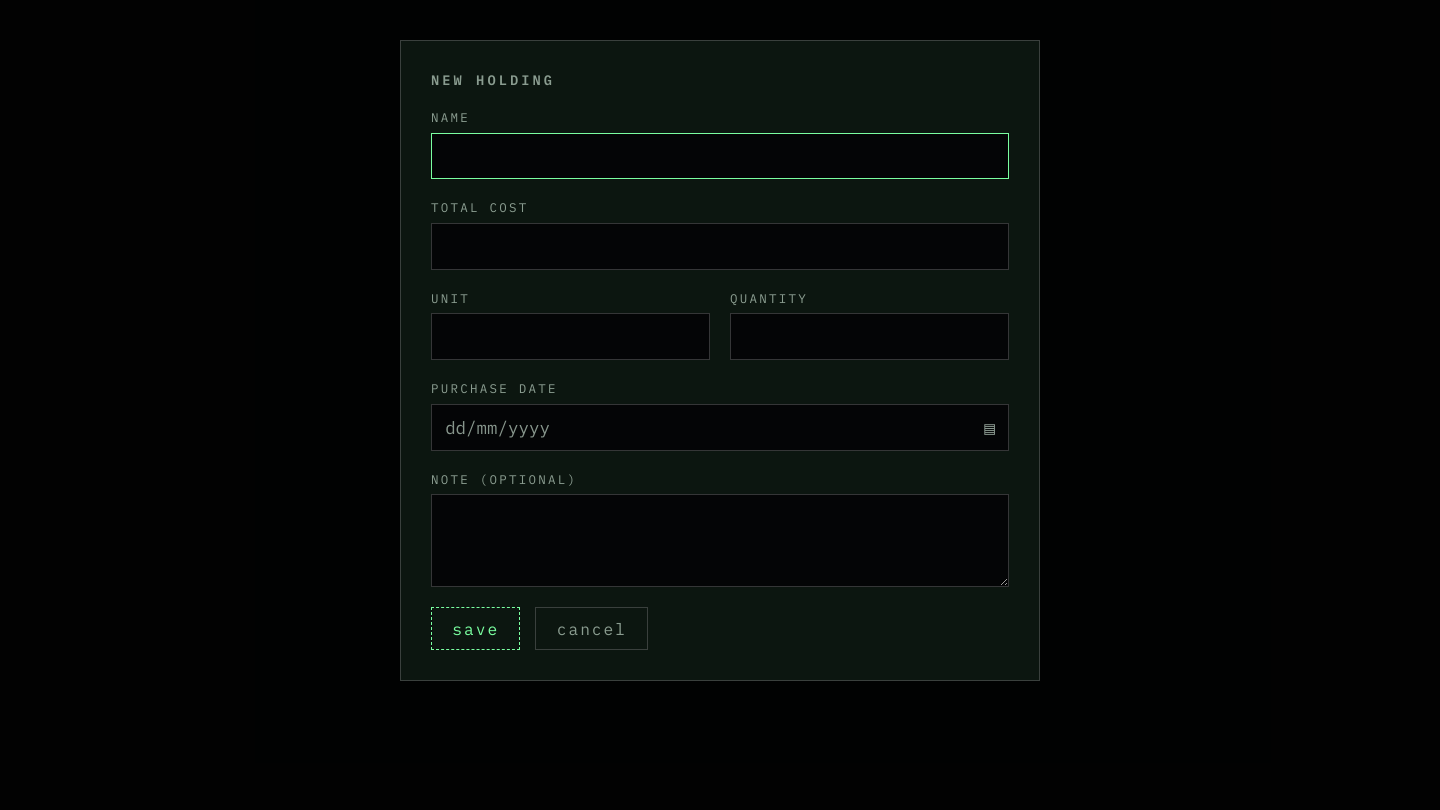
it: HoldingForm › blocks submit and shows field errors when required fields are empty
Step 1. Click the button "save" → (476, 629), box [431,607,520,650]
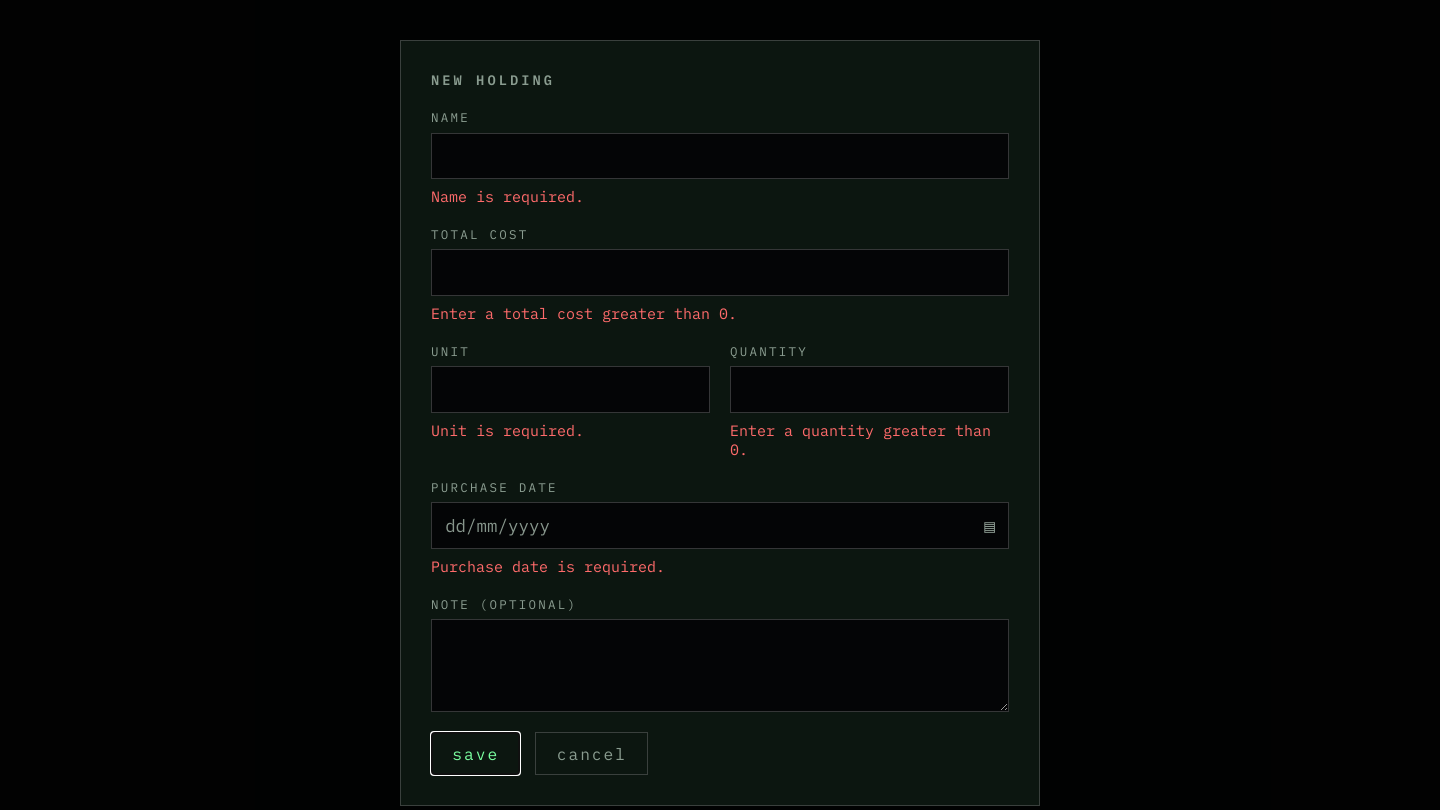
expect the text "Name is required." is shown: met, box [431,187,584,206]
expect the text "Enter a total cost greater than 0." is shown: met, box [431,304,737,323]
expect the text "Unit is required." is shown: met, box [431,421,584,440]
